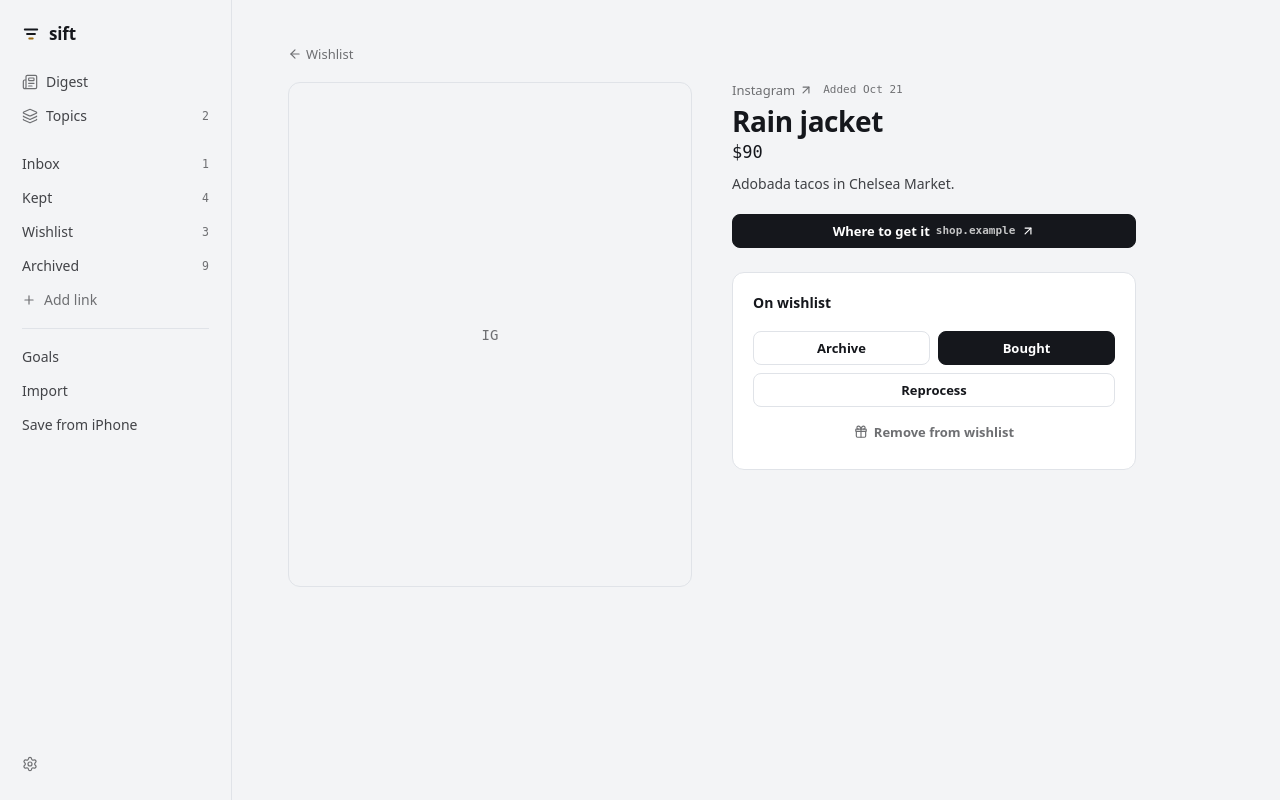
it: bought › labels Done as Bought on a wishlist post and toasts Marked bought
Click the button "Bought": point(1026, 348) [938,331,1115,365]
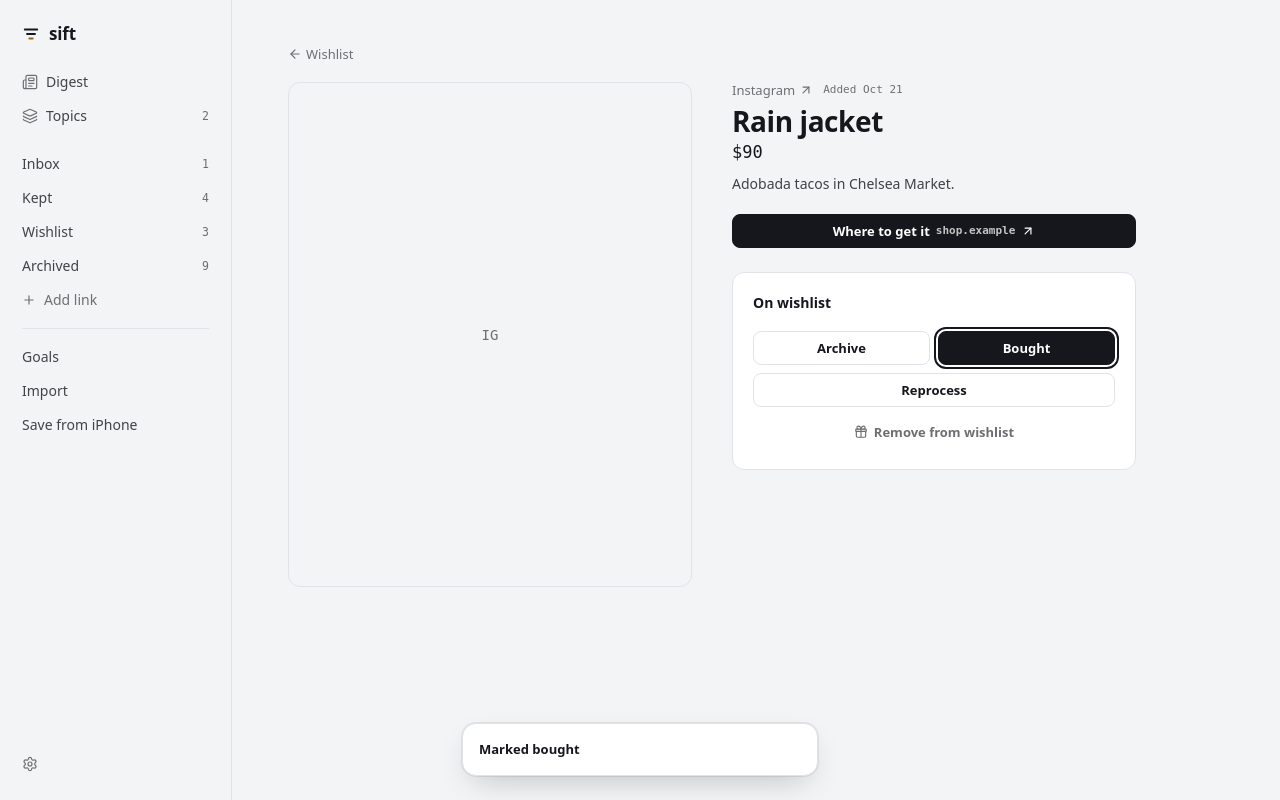
Check: the text "Marked bought" is shown, box [479,740,580,759]
